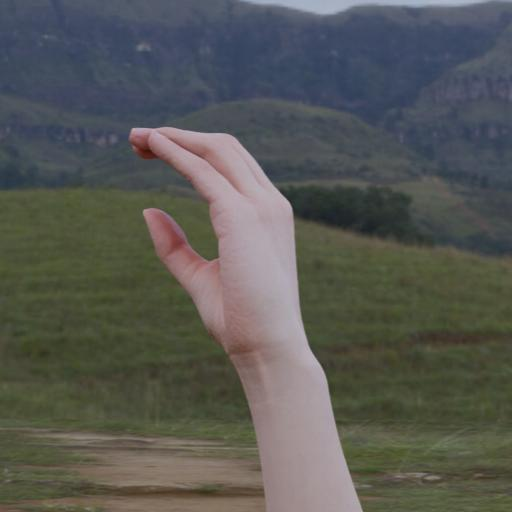C: (101, 90, 318, 352)
